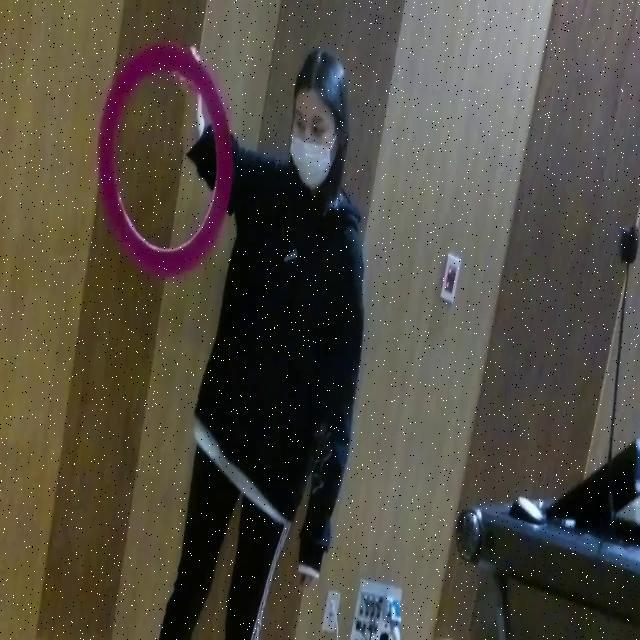Circle: (88, 37, 234, 286)
